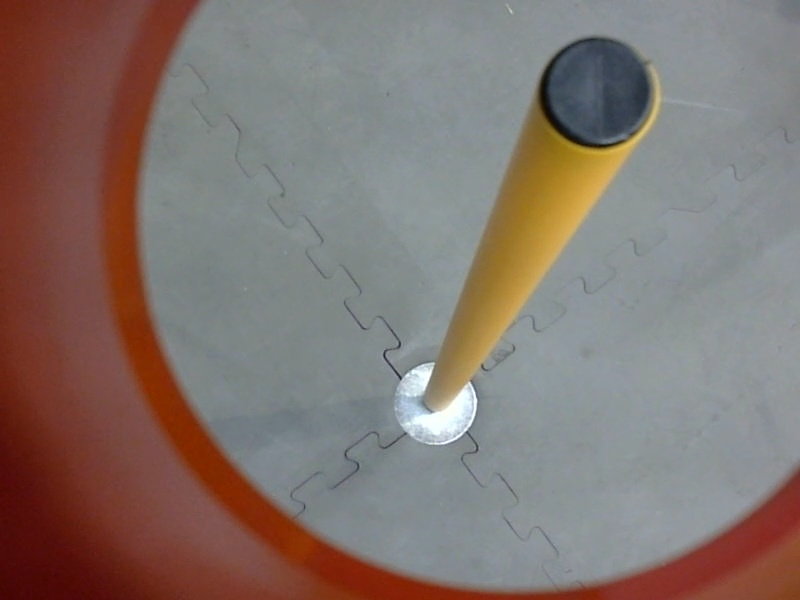tip: (529, 27, 667, 161)
